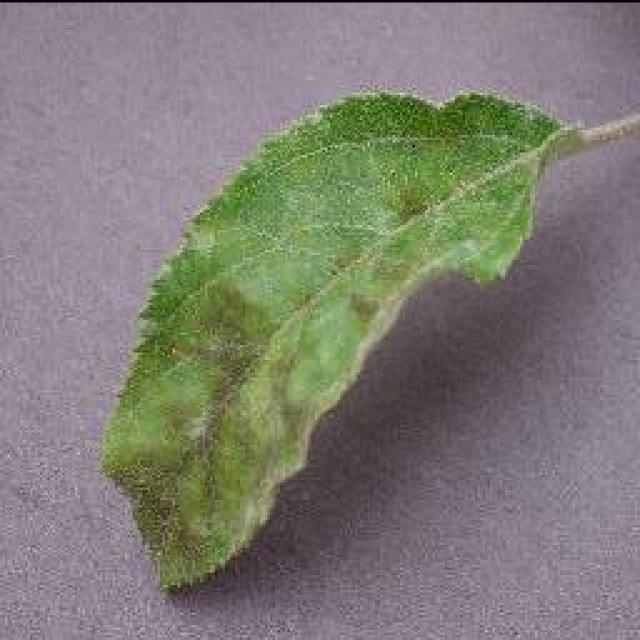apple scab disease: (95, 73, 637, 595)
